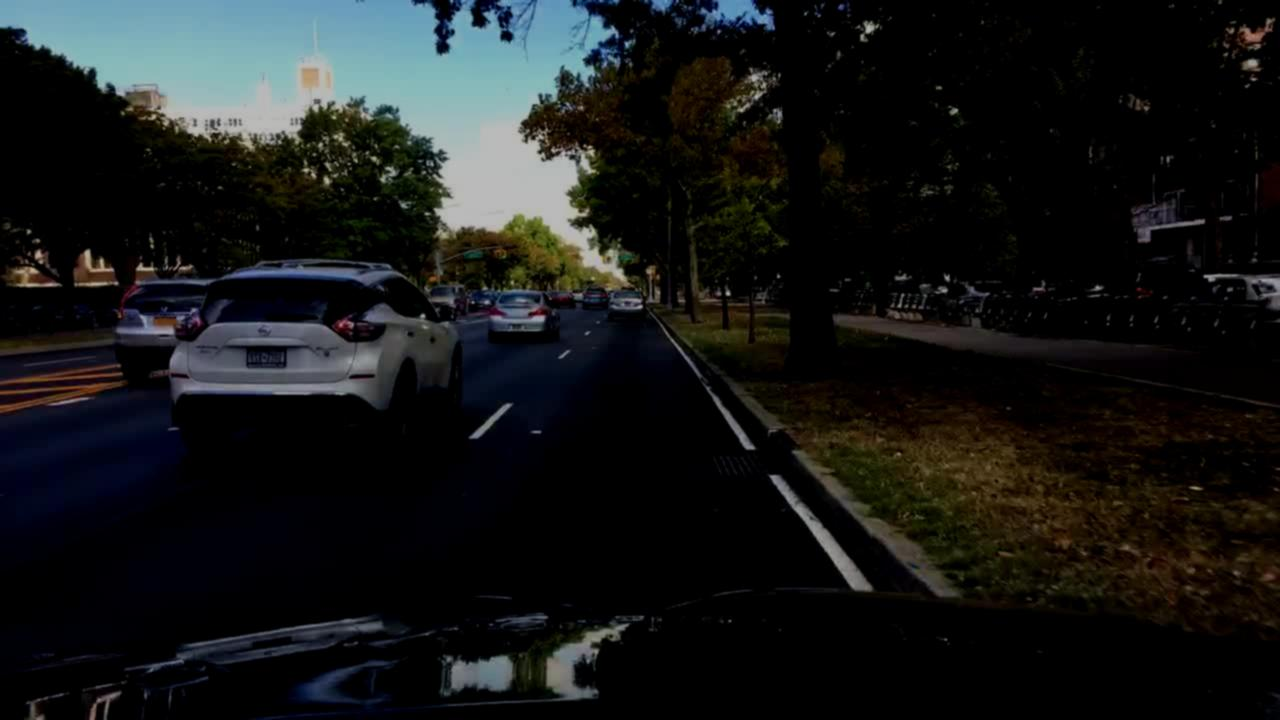Honda: (156, 303, 171, 315)
